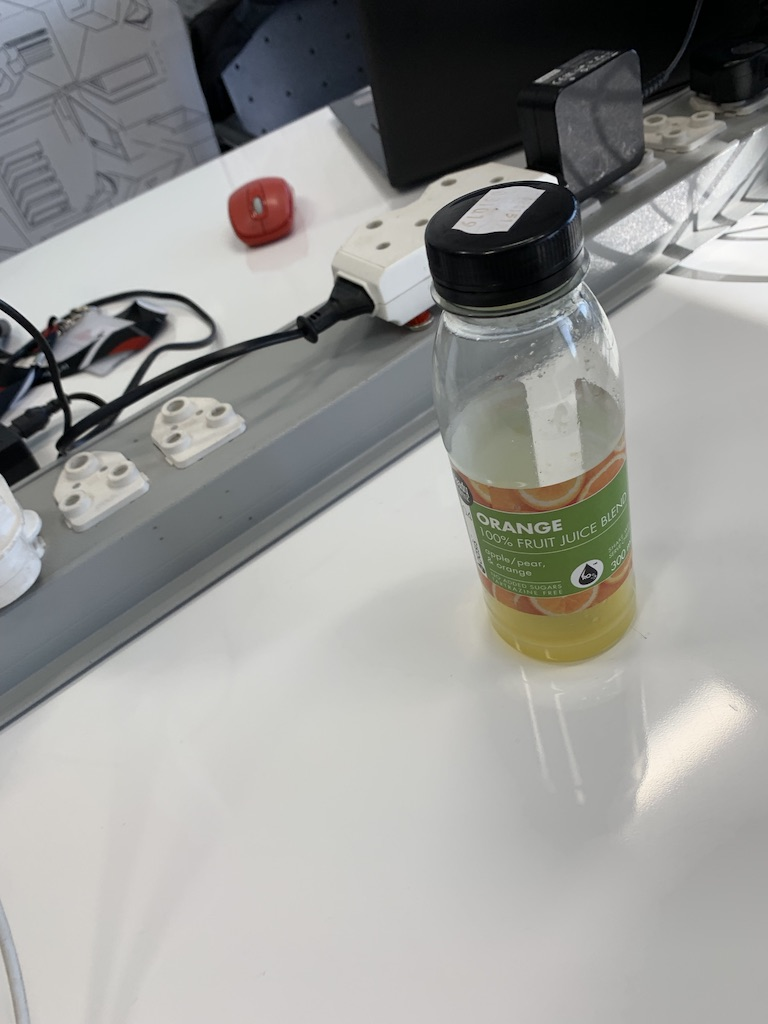bottle: (391, 179, 660, 690)
